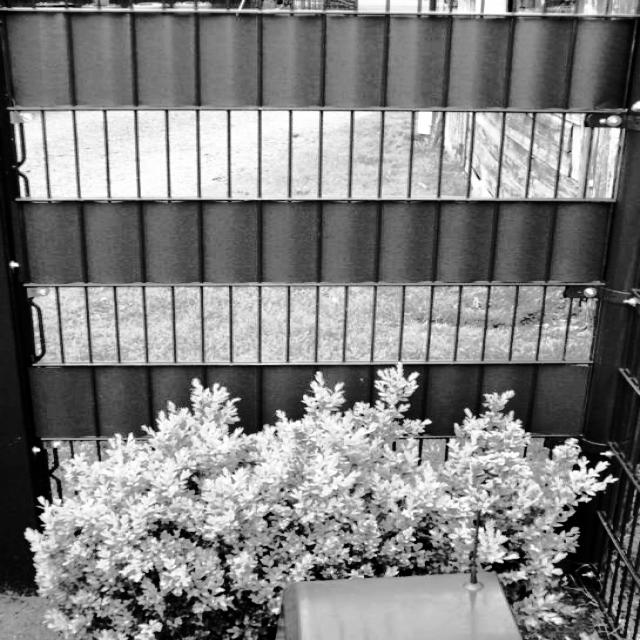fences: (24, 39, 604, 415)
